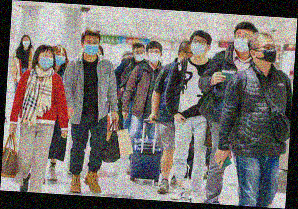with_mask: (234, 31, 252, 53), (190, 37, 209, 56), (262, 42, 278, 63), (37, 51, 55, 69), (83, 39, 100, 56), (52, 49, 66, 66), (148, 47, 161, 65), (133, 48, 146, 62), (20, 37, 31, 47)
